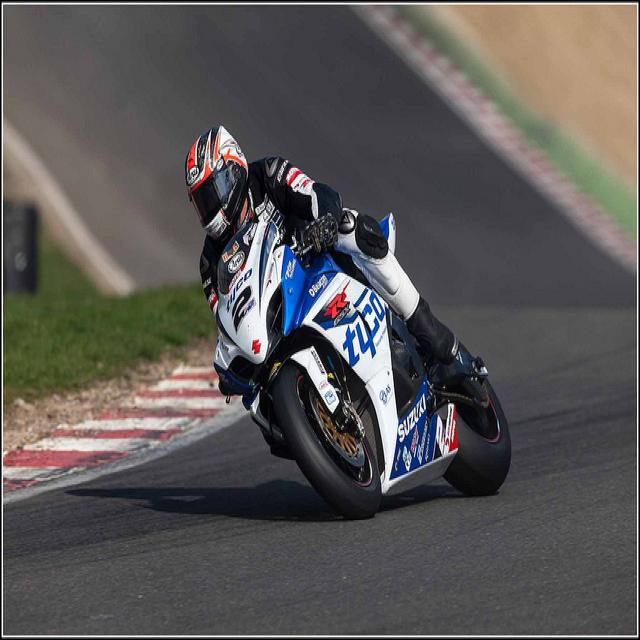motor: (215, 210, 512, 524)
